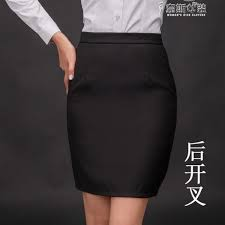F_tailored skirt: (53, 27, 187, 205)
